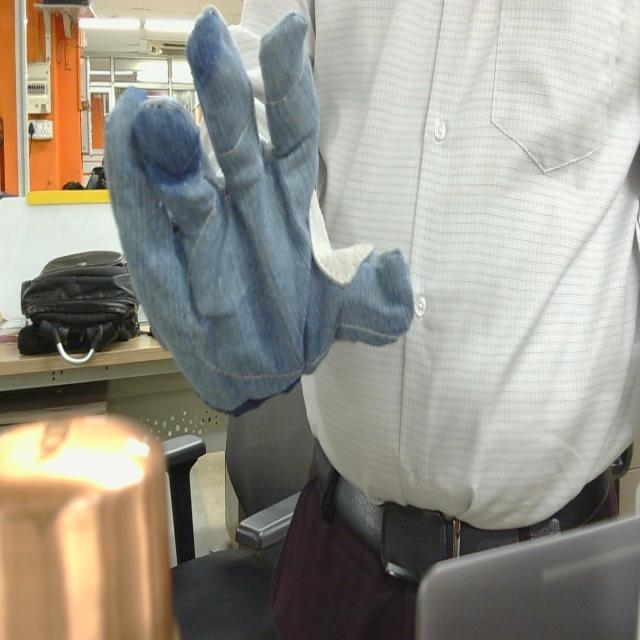Gloves-Detection: (103, 8, 414, 410)
